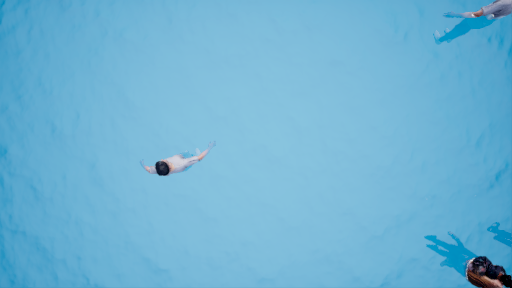person: (422, 226, 512, 287), (422, 1, 512, 48), (139, 137, 217, 178)
